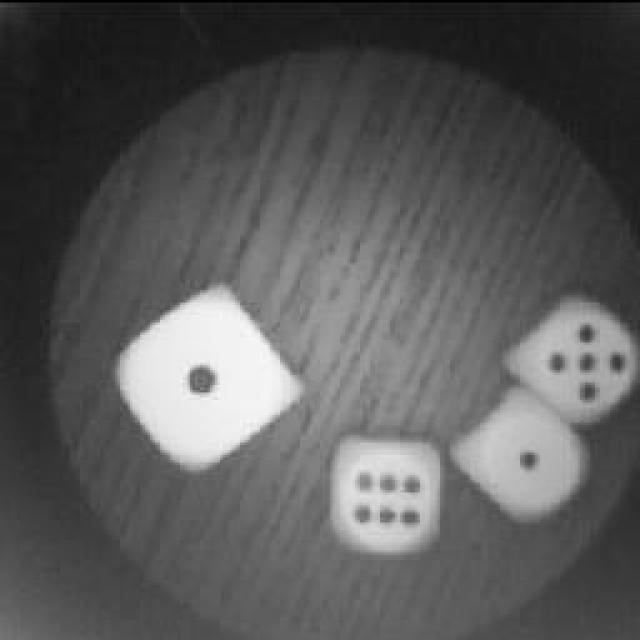dice_1: (112, 283, 302, 465), (448, 390, 590, 525)
dice_5: (507, 289, 640, 422)
dice_6: (322, 428, 442, 558)
